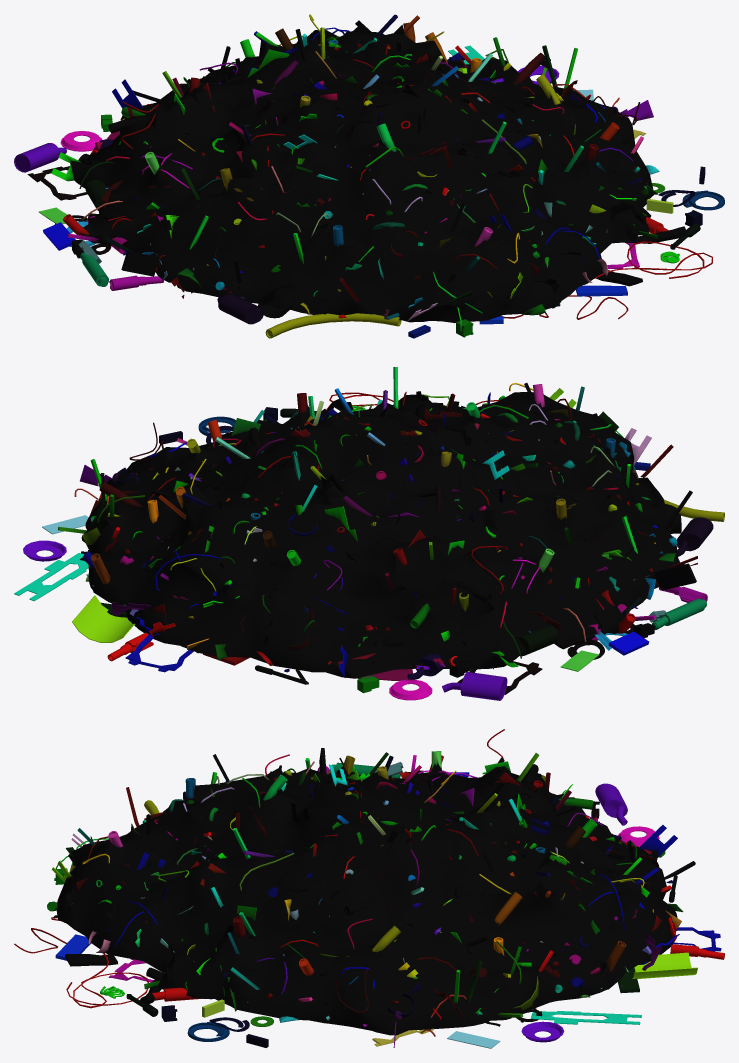
Rendered from Scrap02.fbx.
3 views of the same model, one above another, from view 1: azimuth 30°, elevation 25°; view 2: azimuth 150°, elevation 25°; view 3: azimuth 270°, elevation 25° (orthographic). The views are drawn at different scales.
Visible parts, largest first — view 1: Scrap02_LOD0; view 2: Scrap02_LOD0; view 3: Scrap02_LOD0.
Part boxes in pixels (x1,y1,x2,y2): Scrap02_LOD0: [14, 14, 724, 338]; Scrap02_LOD0: [14, 367, 724, 700]; Scrap02_LOD0: [14, 729, 724, 1048].
Size of what is drawn, in the model's own units: 842 by 182 by 894.
